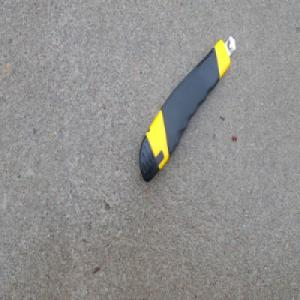Cutter: (137, 35, 234, 185)
